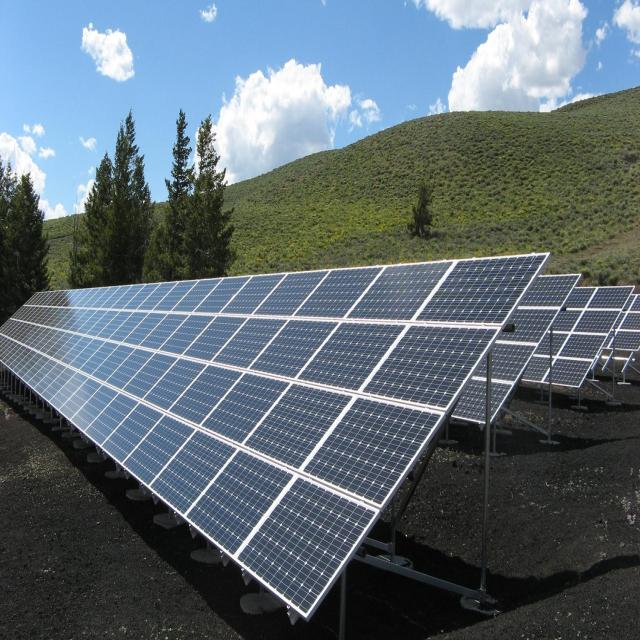clean-solar-panel: (0, 253, 548, 617)
